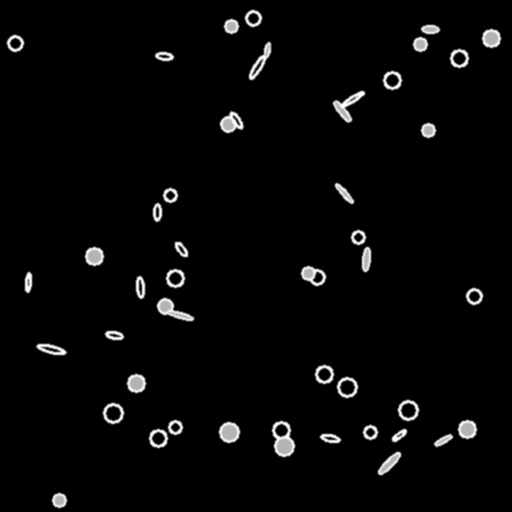pseudomonas: (376, 450, 402, 476), (247, 54, 267, 80), (332, 99, 352, 123), (339, 90, 365, 108), (334, 182, 354, 204), (37, 343, 65, 355), (228, 110, 244, 130), (167, 309, 193, 321), (173, 240, 189, 258), (361, 247, 371, 271), (391, 428, 407, 442), (434, 434, 452, 446), (320, 433, 340, 443), (136, 277, 144, 297), (105, 331, 123, 339), (155, 52, 173, 60), (422, 25, 438, 33), (263, 42, 271, 58), (25, 272, 31, 292), (154, 204, 160, 220)
synechocystis: (104, 404, 122, 422), (220, 423, 238, 441), (275, 437, 293, 455), (399, 401, 417, 419), (338, 378, 356, 396), (128, 375, 144, 391), (384, 72, 400, 88), (273, 422, 289, 438), (459, 421, 475, 437), (451, 50, 467, 66), (483, 30, 499, 46), (316, 366, 332, 382), (167, 270, 183, 286), (150, 430, 166, 446), (86, 248, 102, 264), (310, 270, 324, 284), (246, 11, 260, 25), (221, 117, 235, 131), (158, 299, 172, 313), (8, 36, 22, 50), (467, 289, 481, 303), (225, 20, 237, 32), (164, 189, 176, 201), (302, 267, 314, 279), (352, 231, 364, 243), (169, 421, 181, 433), (53, 494, 65, 506), (422, 124, 434, 136), (364, 426, 376, 438), (414, 38, 426, 50)
